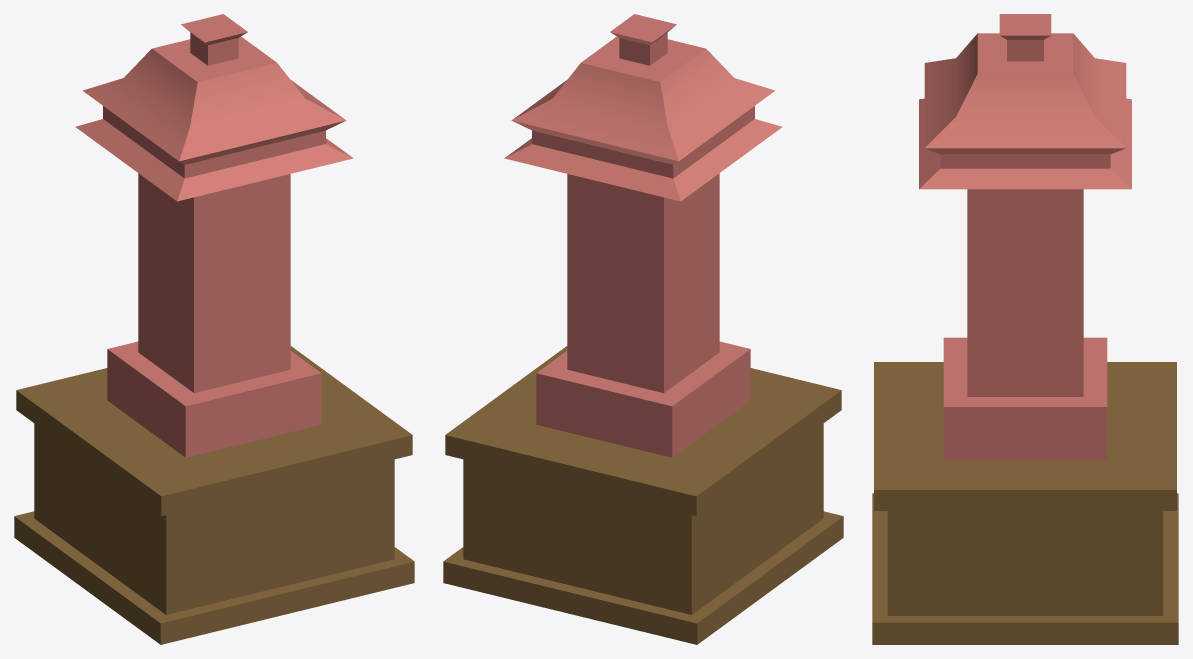
Rendered from rainha.fbx.
The picture shows the model from 3 angles, left to right: view 1: azimuth 30°, elevation 25°; view 2: azimuth 150°, elevation 25°; view 3: azimuth 270°, elevation 25°; orthographic projection. The views are drawn at different scales.
Parts seen in each view (by area): view 1: Plane; view 2: Plane; view 3: Plane.
Boxes of the visible parts, <box> form: Plane: <box>14,14,414,644</box>; Plane: <box>443,14,843,644</box>; Plane: <box>872,14,1178,644</box>.
Size of the model in its own units: 400 by 801 by 400.
